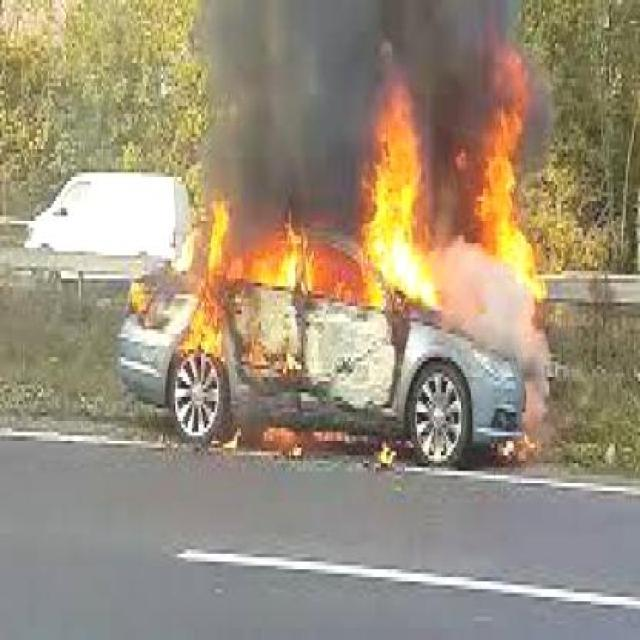Fire: (357, 28, 556, 302), (178, 177, 360, 365)
Smoke: (169, 0, 349, 177)
